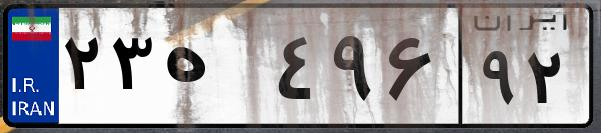2: (57, 26, 110, 100), (525, 38, 570, 115)
3: (110, 28, 158, 98)
4: (270, 28, 330, 110)
6: (385, 28, 445, 110)
9: (330, 28, 385, 110), (475, 38, 525, 113)
ه: (158, 20, 270, 120)
